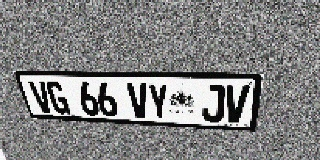6: (75, 82, 101, 116), (94, 82, 119, 117)
G: (45, 81, 71, 115)
J: (202, 84, 225, 122)
V: (223, 85, 250, 124), (28, 81, 55, 114), (126, 83, 150, 119)
Y: (147, 83, 169, 120)
